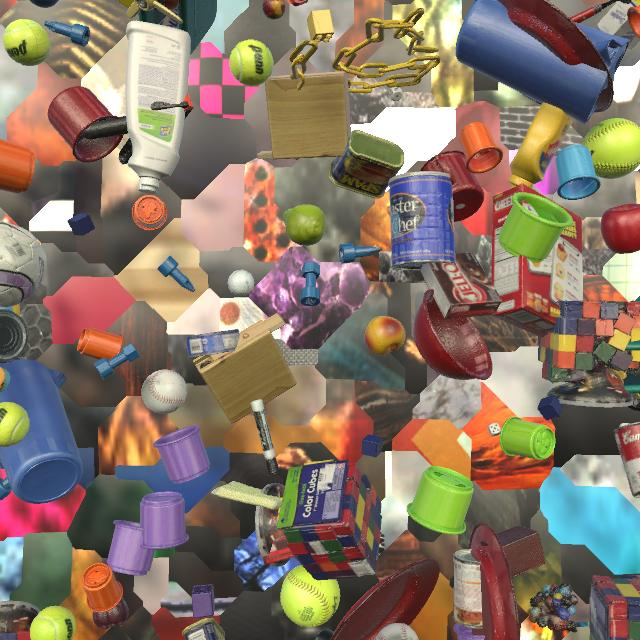ycb_002_master_chef_can: (388, 171, 456, 271)
ycb_003_cracker_box: (491, 183, 583, 338)
ycb_004_sugar_box: (597, 0, 640, 49), (117, 0, 178, 29)
ycb_005_tomato_soup_can: (453, 549, 483, 629), (613, 422, 640, 498)
ycb_006_mustard_bottle: (508, 103, 574, 189), (0, 304, 20, 316)
ycb_007_tuna_fish_can: (186, 329, 240, 358), (0, 309, 28, 363)
ycb_008_pudding_box: (419, 252, 502, 319), (257, 535, 296, 565)
ycb_010_potted_meat_can: (329, 130, 404, 199), (182, 618, 225, 640)
ycb_013_apple: (601, 204, 640, 254)
ycb_015_peach: (365, 316, 406, 356)
ycb_016_pear: (283, 204, 327, 246)
ycb_017_orange: (633, 316, 640, 328)
ycb_018_plum: (93, 598, 129, 630)
